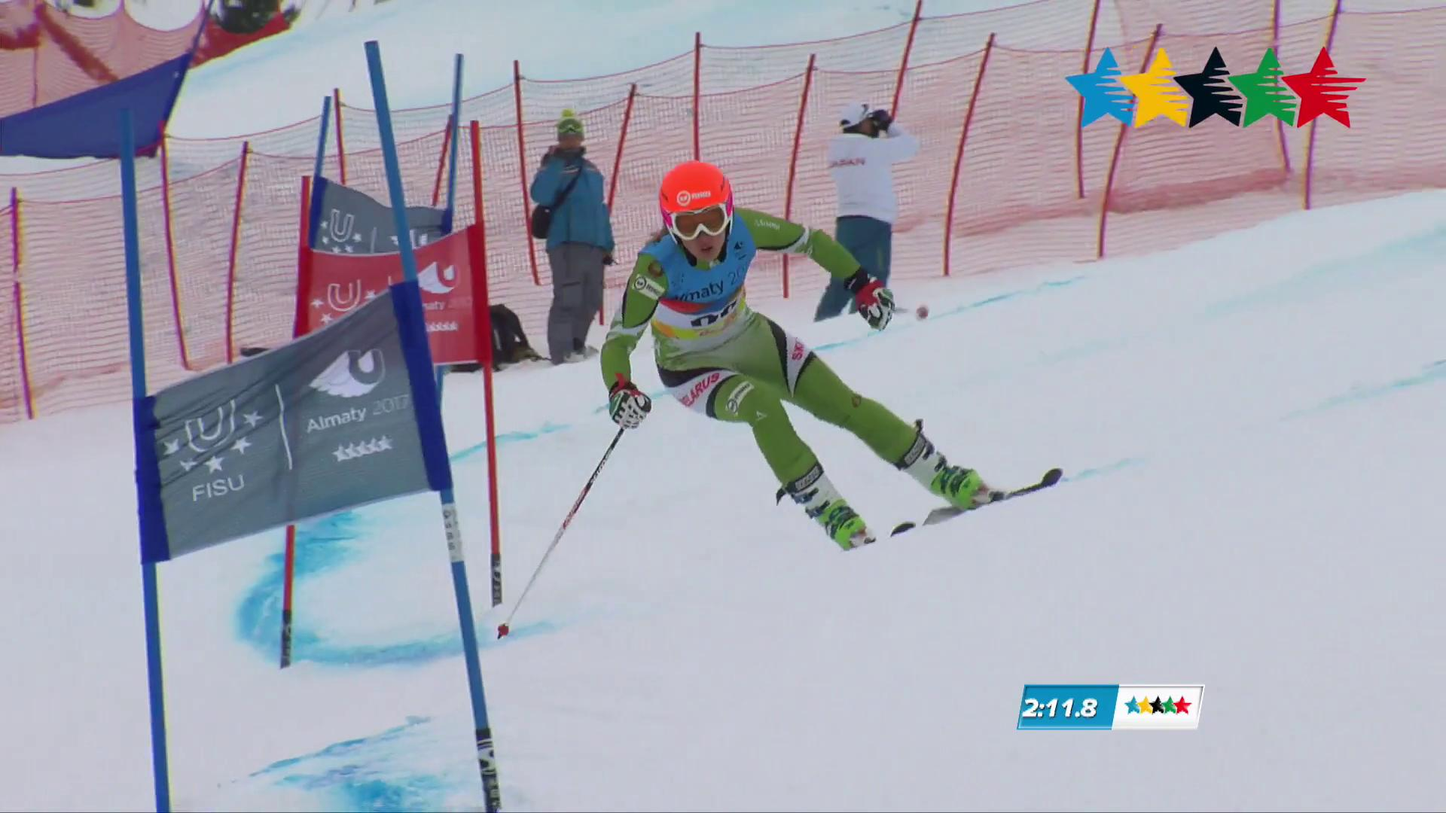gate: (365, 41, 499, 793), (471, 120, 502, 606), (118, 108, 153, 531), (142, 544, 170, 812)
